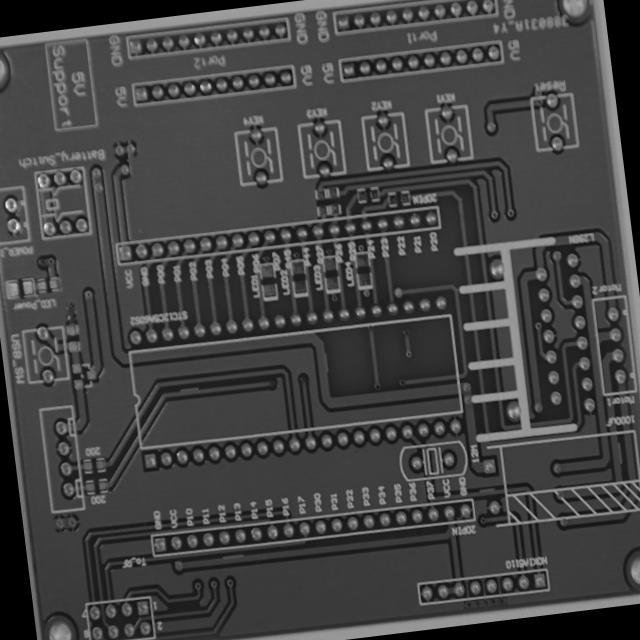spur: (610, 434, 628, 468), (174, 380, 203, 401), (317, 347, 334, 375), (474, 480, 500, 498), (218, 547, 245, 564)
